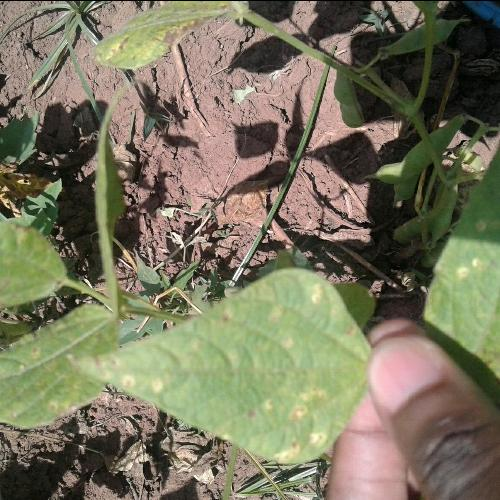hawar: (151, 256, 365, 443)
